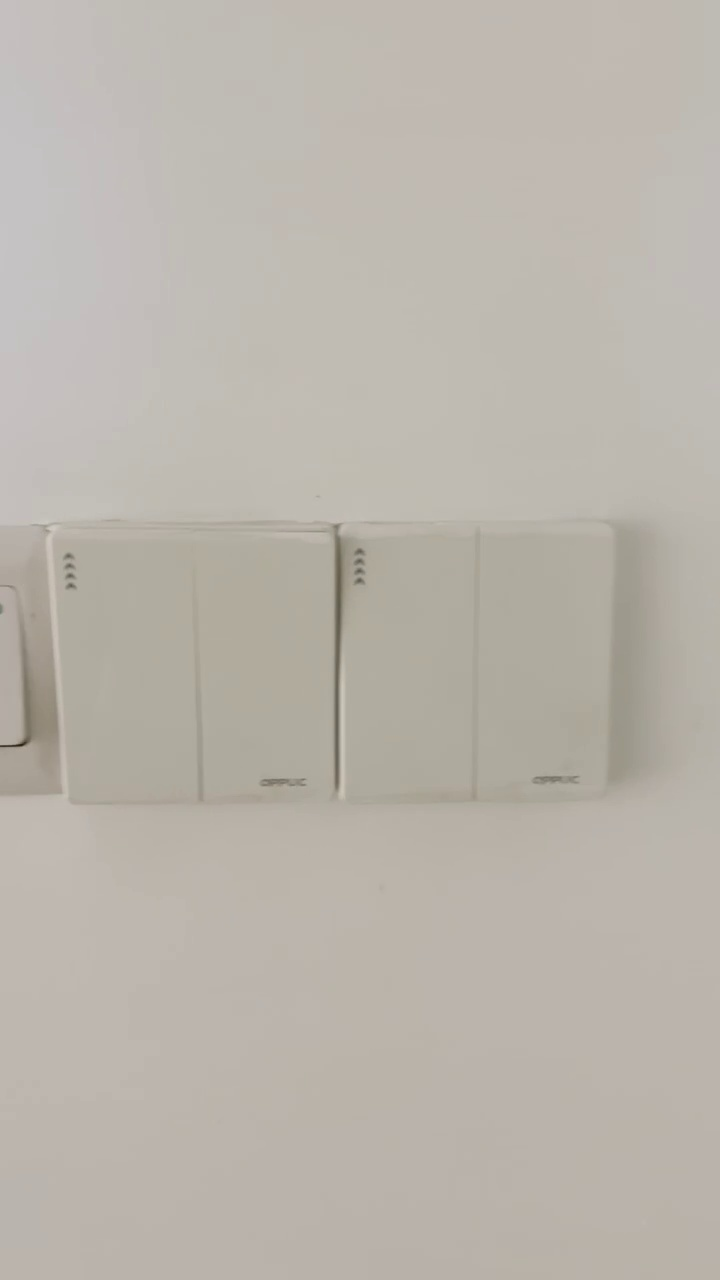button1: (51, 530, 200, 806), (344, 532, 471, 798), (203, 538, 333, 797), (481, 529, 602, 791)
